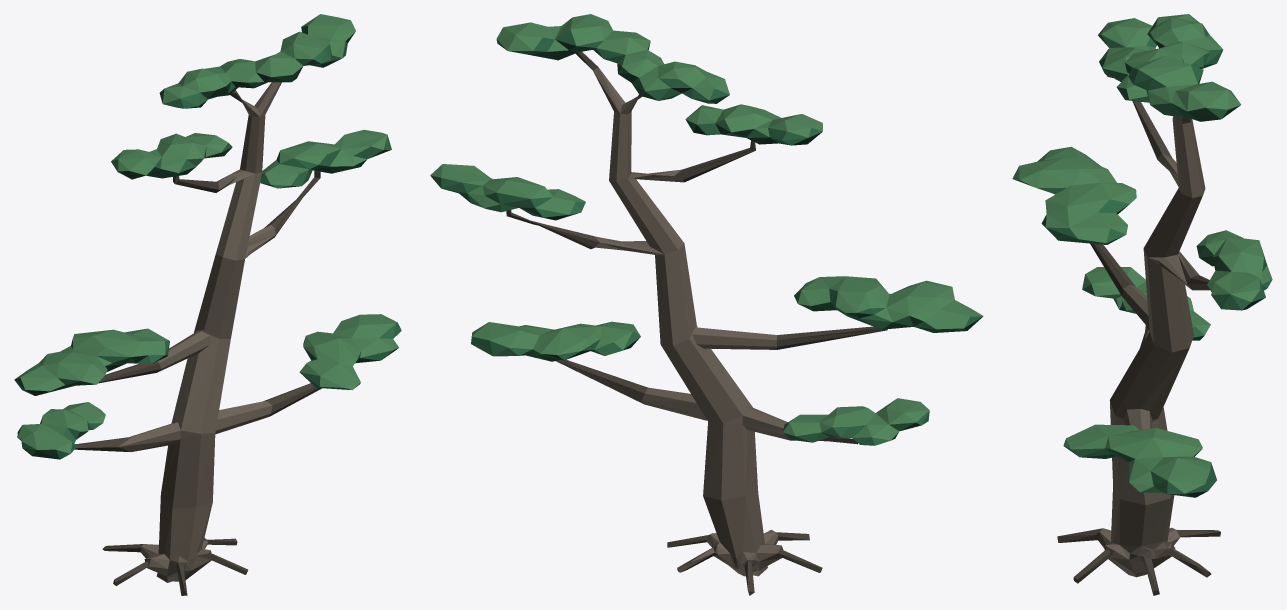
File: ancient-pine-4119-lod2.glb
3 views of the same model, side by side, from view 1: azimuth 30°, elevation 25°; view 2: azimuth 150°, elevation 25°; view 3: azimuth 270°, elevation 25° (orthographic). The views are drawn at different scales.
Visible parts, largest first — view 1: n12.006, n8.006, n9.006, n11.006, n10.006; view 2: n8.006, n12.006, n11.006, n9.006, n10.006; view 3: n12.006, n8.006, n11.006, n9.006, n10.006.
Boxes of the visible parts, bbox=[...] form: n12.006: bbox=[15, 14, 398, 453]; n8.006: bbox=[118, 82, 281, 582]; n9.006: bbox=[75, 90, 321, 595]; n11.006: bbox=[14, 26, 401, 459]; n10.006: bbox=[15, 32, 398, 459]; n8.006: bbox=[593, 67, 790, 576]; n12.006: bbox=[430, 14, 983, 440]; n11.006: bbox=[430, 29, 982, 445]; n9.006: bbox=[506, 51, 887, 595]; n10.006: bbox=[431, 39, 982, 442]; n12.006: bbox=[1012, 14, 1272, 493]; n8.006: bbox=[1098, 116, 1205, 577]; n11.006: bbox=[1037, 18, 1271, 494]; n9.006: bbox=[1057, 101, 1220, 595]; n10.006: bbox=[1013, 34, 1265, 497].
Bounding box in the file's own units: 5.07 × 5.43 × 2.16.
